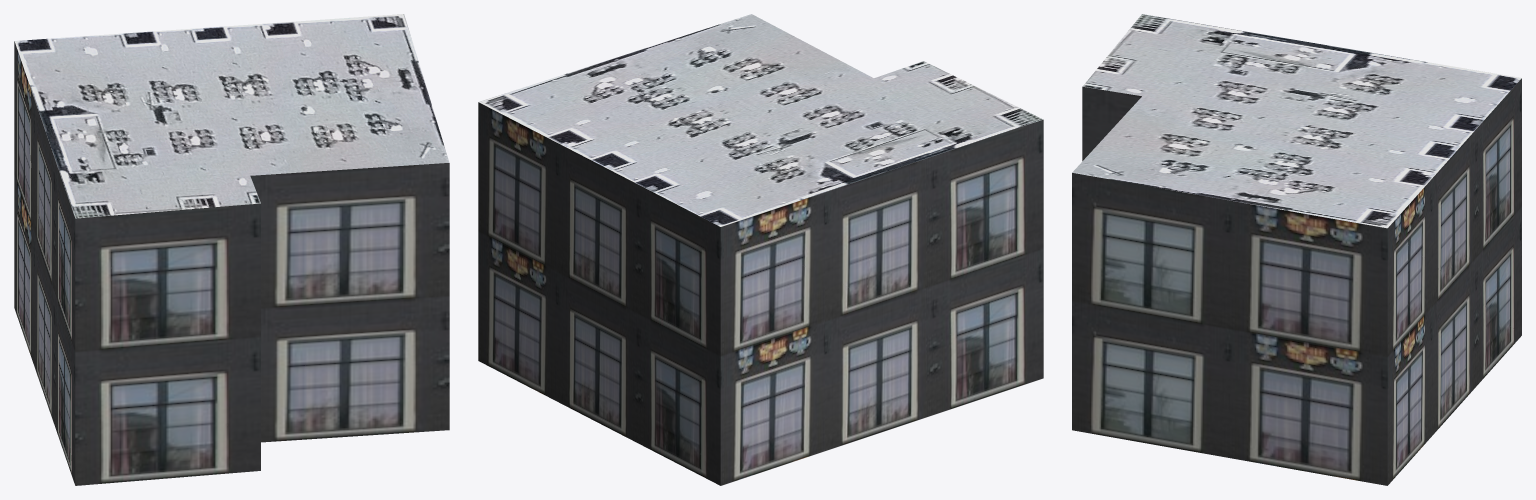
Rendered from ResTex__2665.fbx.
3 renders of one model, left to right at view 1: azimuth 30°, elevation 25°; view 2: azimuth 150°, elevation 25°; view 3: azimuth 270°, elevation 25°, orthographic. The views are drawn at different scales.
Parts seen in each view (by area): view 1: CityEngineMaterial_22_m, CityEngineMaterial_2_m; view 2: CityEngineMaterial_22_m, CityEngineMaterial_2_m; view 3: CityEngineMaterial_22_m, CityEngineMaterial_2_m.
Part boxes in pixels (bbox=[...]): CityEngineMaterial_22_m: bbox=[14, 41, 449, 485]; CityEngineMaterial_2_m: bbox=[14, 14, 449, 218]; CityEngineMaterial_22_m: bbox=[478, 102, 1043, 485]; CityEngineMaterial_2_m: bbox=[478, 14, 1042, 226]; CityEngineMaterial_22_m: bbox=[1072, 78, 1521, 485]; CityEngineMaterial_2_m: bbox=[1072, 14, 1521, 228].
Size of the model in its own units: 10.72 by 6 by 9.5.
2 materials, 2 textured.
